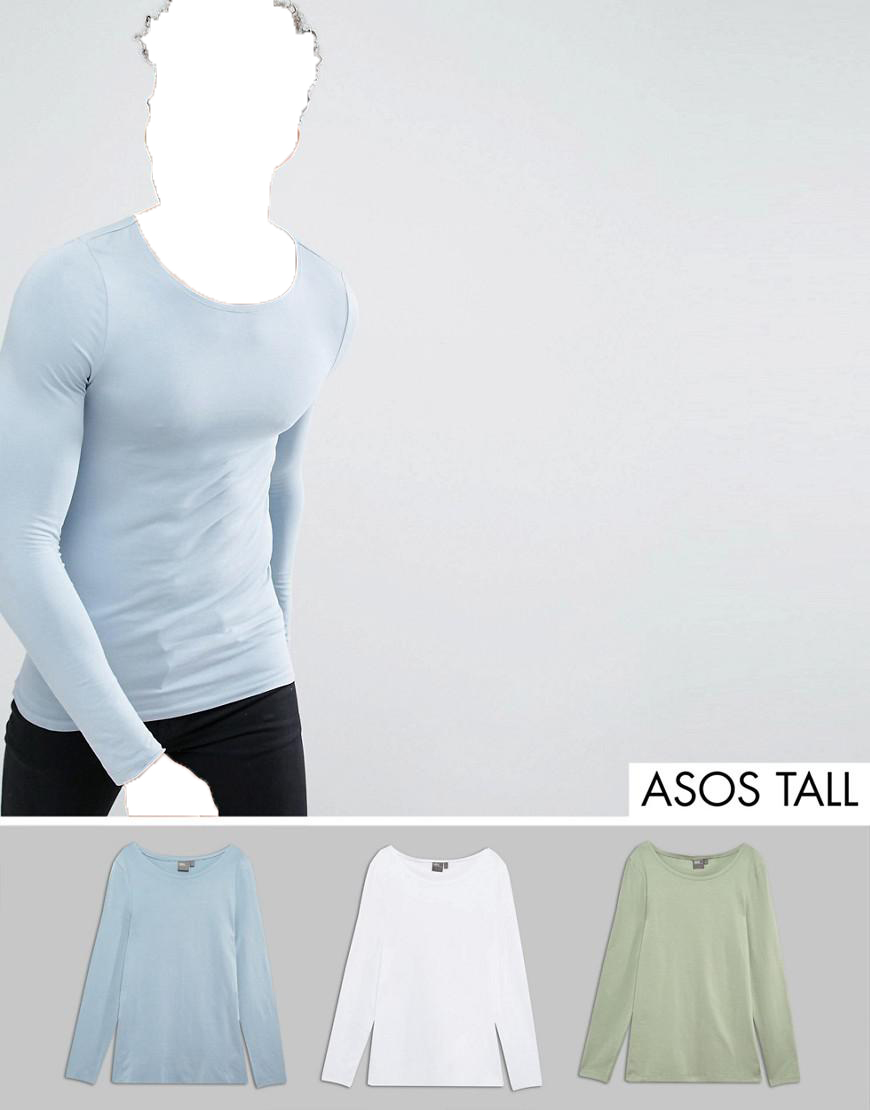teeshirt: (3, 215, 359, 761), (310, 840, 551, 1100), (56, 840, 296, 1093), (574, 846, 808, 1095)
